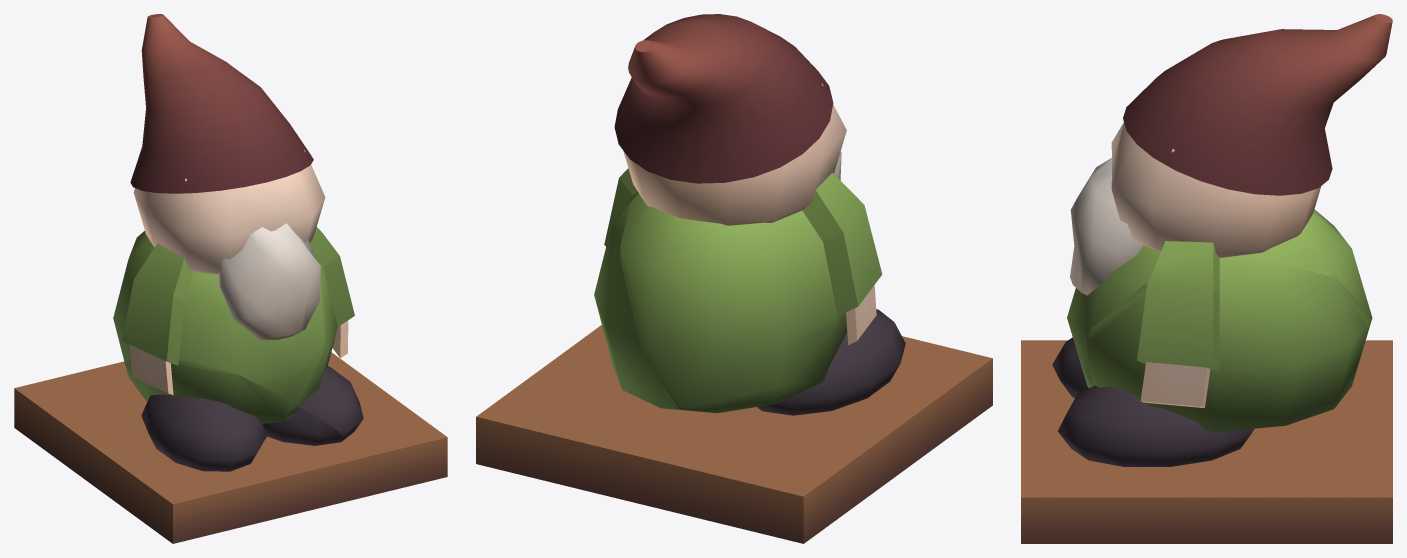
File: M_dwarf_fragments.FBX
3 renders of one model, left to right at view 1: azimuth 30°, elevation 25°; view 2: azimuth 150°, elevation 25°; view 3: azimuth 270°, elevation 25°, orthographic. The views are drawn at different scales.
Visible parts, largest first — view 1: Box003_Part_1, Box003_Part_2, Box003_Part_3, Box003_Part_5, Box003_Part_4; view 2: Box003_Part_1, Box003_Part_3, Box003_Part_2, Box003_Part_4, Box003_Part_5; view 3: Box003_Part_3, Box003_Part_1, Box003_Part_2, Box003_Part_4, Box003_Part_5.
Part boxes in pixels (bbox=[...]): Box003_Part_1: bbox=[113, 14, 325, 405]; Box003_Part_2: bbox=[51, 345, 318, 543]; Box003_Part_3: bbox=[297, 227, 447, 485]; Box003_Part_5: bbox=[260, 404, 411, 512]; Box003_Part_4: bbox=[14, 361, 147, 456]; Box003_Part_1: bbox=[614, 14, 878, 407]; Box003_Part_3: bbox=[476, 168, 696, 496]; Box003_Part_2: bbox=[768, 262, 992, 509]; Box003_Part_4: bbox=[611, 385, 850, 543]; Box003_Part_5: bbox=[692, 405, 774, 423]; Box003_Part_3: bbox=[1021, 249, 1392, 543]; Box003_Part_1: bbox=[1067, 14, 1392, 379]; Box003_Part_2: bbox=[1021, 337, 1088, 423]; Box003_Part_4: bbox=[1312, 340, 1392, 421]; Box003_Part_5: bbox=[1021, 376, 1092, 457].
Size of the model in its own units: 18.66 by 18.66 by 24.86.
